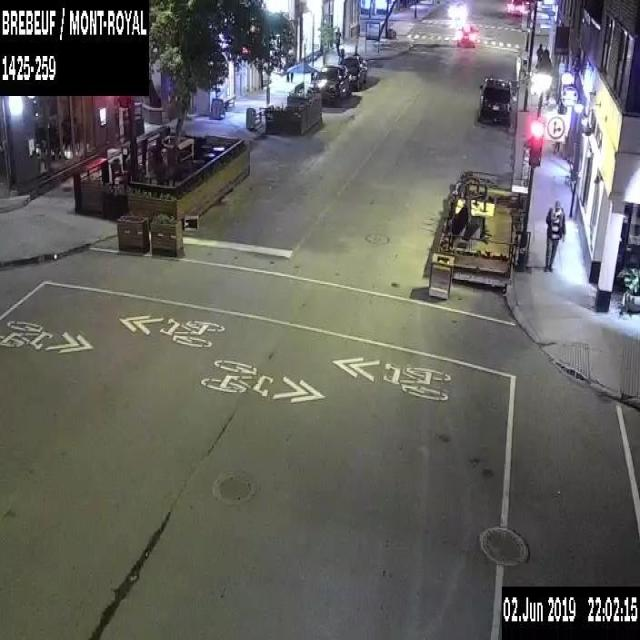pedestrian: (544, 197, 566, 272), (535, 40, 543, 76), (543, 40, 550, 76), (334, 25, 341, 52)
vehicle: (479, 77, 513, 126), (313, 66, 349, 103), (338, 52, 368, 89), (456, 22, 478, 46), (447, 0, 470, 19), (505, 0, 522, 17)
